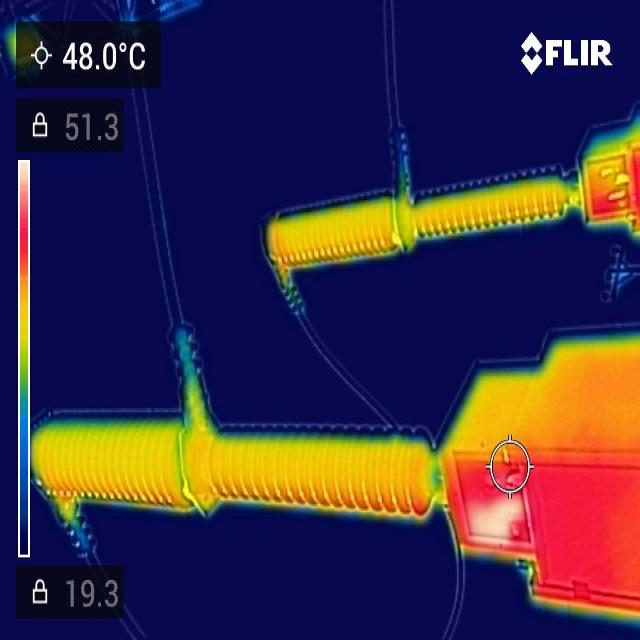Zona_Atenco: (512, 350, 638, 452)
Zona_Critica: (524, 463, 639, 601)
Zona_Extrema: (477, 500, 515, 537)
